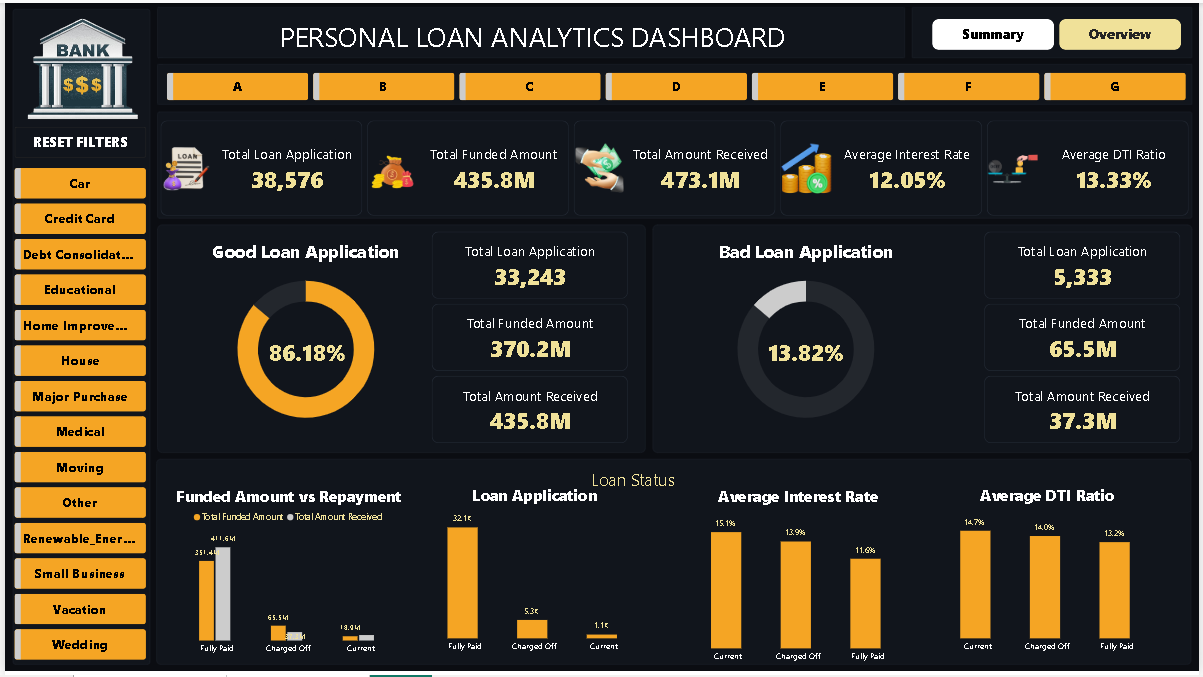

Layout of this report page (visuals, bound fields, positions):
{"tool":"powerbi","page":{"name":"Summary","canvas":[1920,1080],"ordinal":0},"visuals":[{"type":"cardVisual","fields":{"Data":["financial_loan.Total Loan Application","financial_loan.Total Funded Amount","financial_loan.Total Amount Received","financial_loan.Average Interest Rate","financial_loan.Average DTI Rate"]},"box":[250,187.8,1653.3,153.3],"z":0},{"type":"donutChart","title":"Good Loan Application","fields":{"Category":["financial_loan.Good_vs_Bad_Loan"],"Y":["financial_loan.Total Loan Application"]},"box":[272.9,368.6,421.4,342.9],"z":1000},{"type":"donutChart","title":"Bad Loan Application","fields":{"Category":["financial_loan.Good_vs_Bad_Loan"],"Y":["financial_loan.Total Loan Application"]},"box":[1077.1,368.6,421.4,342.9],"z":2000},{"type":"cardVisual","fields":{"Data":["financial_loan.Good Loan %"]},"box":[394.3,514.3,180,88.6],"z":3000},{"type":"cardVisual","fields":{"Data":["financial_loan.Bad Loan %"]},"box":[1197.1,514.3,180,88.6],"z":4000},{"type":"cardVisual","fields":{"Data":["financial_loan.Total Loan Application","financial_loan.Total Funded Amount","financial_loan.Total Amount Received"],"Rows":["financial_loan.Good_vs_Bad_Loan"]},"box":[651.4,368.6,350,342.9],"z":5000},{"type":"cardVisual","fields":{"Data":["financial_loan.Total Loan Application","financial_loan.Total Funded Amount","financial_loan.Total Amount Received"],"Rows":["financial_loan.Good_vs_Bad_Loan"]},"box":[1538.6,368.6,350,342.9],"z":6000},{"type":"clusteredColumnChart","title":"Funded Amount vs Repayment","fields":{"Category":["financial_loan.LOAN_STATUS"],"Y":["financial_loan.Total Funded Amount","financial_loan.Total Amount Received"]},"box":[250,761.4,412.9,305.7],"z":7000},{"type":"clusteredColumnChart","title":"Loan Application","fields":{"Category":["financial_loan.LOAN_STATUS"],"Y":["financial_loan.Total Loan Application"]},"box":[651.2,761.2,401.2,305],"z":8000},{"type":"textbox","box":[941.2,747.5,222.5,112.5],"z":9000},{"type":"clusteredColumnChart","title":"Average Interest Rate","fields":{"Category":["financial_loan.LOAN_STATUS"],"Y":["financial_loan.Average Interest Rate"]},"box":[1072.9,761.4,401.4,318.6],"z":10000},{"type":"clusteredColumnChart","title":"Average DTI Ratio","fields":{"Category":["financial_loan.LOAN_STATUS"],"Y":["financial_loan.Average DTI Ratio"]},"box":[1473.8,761.2,401.2,305],"z":11000},{"type":"image","box":[0,0,250,210],"z":12000},{"type":"advancedSlicerVisual","fields":{"Values":["financial_loan.PURPOSE"]},"box":[14.3,264.3,211.4,802.9],"z":13000},{"type":"advancedSlicerVisual","fields":{"Values":["financial_loan.GRADE"]},"box":[260,113,1643,44],"z":14000},{"type":"actionButton","box":[14.3,200,211.4,50],"z":15000},{"type":"textbox","box":[250,24.3,1197.1,68.6],"z":16000},{"type":"pageNavigator","box":[1488.6,24.3,400,50],"z":17000}]}

Visuals, with their boxes in screenshot pixels (x1, y1, x2, y2), scaled from the page's 1920x1080 canvas onto the 1203x677 screenshot:
cardVisual - financial_loan.Total Loan Application x financial_loan.Total Funded Amount: 157, 118, 1193, 214
"Good Loan Application" donutChart: 171, 231, 435, 446
"Bad Loan Application" donutChart: 675, 231, 939, 446
cardVisual - financial_loan.Good Loan %: 247, 322, 360, 378
cardVisual - financial_loan.Bad Loan %: 750, 322, 863, 378
cardVisual - financial_loan.Total Loan Application x financial_loan.Total Funded Amount: 408, 231, 627, 446
cardVisual - financial_loan.Total Loan Application x financial_loan.Total Funded Amount: 964, 231, 1183, 446
"Funded Amount vs Repayment" clusteredColumnChart: 157, 477, 415, 669
"Loan Application" clusteredColumnChart: 408, 477, 659, 668
textbox: 590, 469, 729, 539
"Average Interest Rate" clusteredColumnChart: 672, 477, 924, 676
"Average DTI Ratio" clusteredColumnChart: 923, 477, 1175, 668
image: 0, 0, 157, 132
advancedSlicerVisual - financial_loan.PURPOSE: 9, 166, 141, 669
advancedSlicerVisual - financial_loan.GRADE: 163, 71, 1192, 98
actionButton: 9, 125, 141, 157
textbox: 157, 15, 907, 58
pageNavigator: 933, 15, 1183, 47
